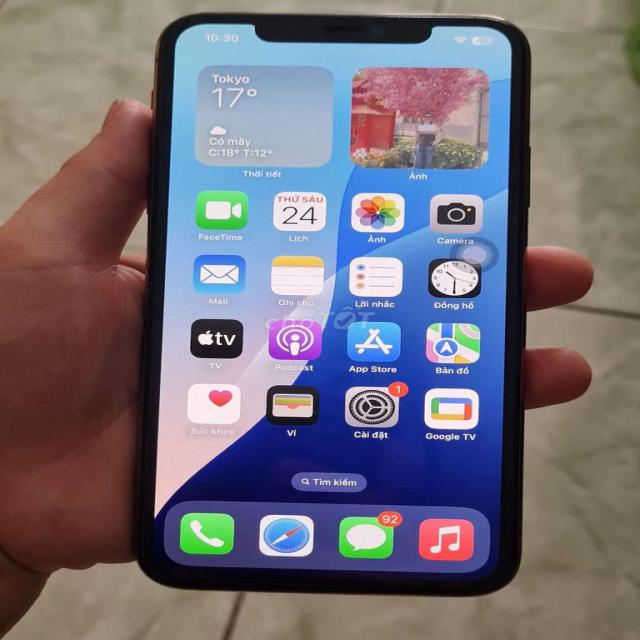gen_11: (132, 4, 534, 596)
